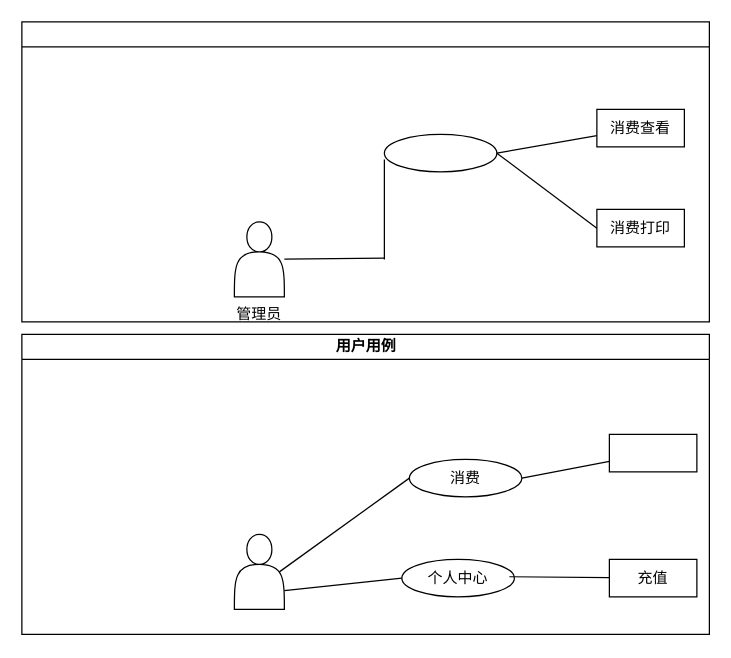
The diagram is 731 pixels wide and 658 high, and some of its shapes have lost their labels. The box of each missing label's shape, as (x1, y1, x2, y2) in pixels:
刷卡: (608, 433, 697, 472)
用户: (233, 533, 284, 609)
监视功能: (383, 133, 497, 172)
管理员用例: (21, 21, 709, 322)
